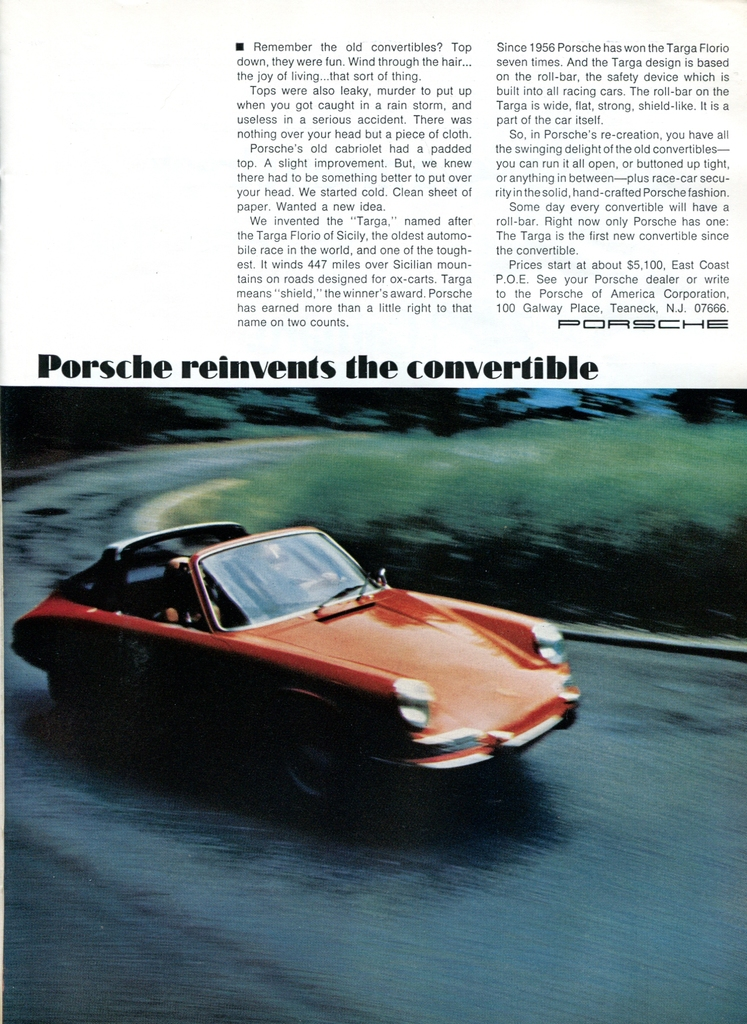Car: (0, 520, 581, 821)
